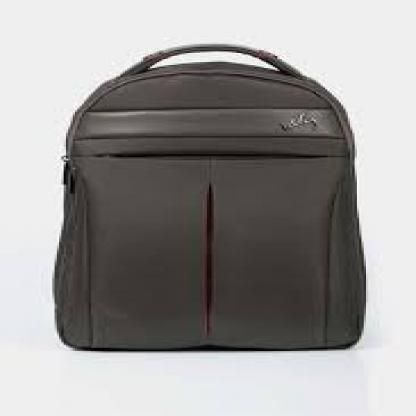morral: (41, 29, 384, 358)
